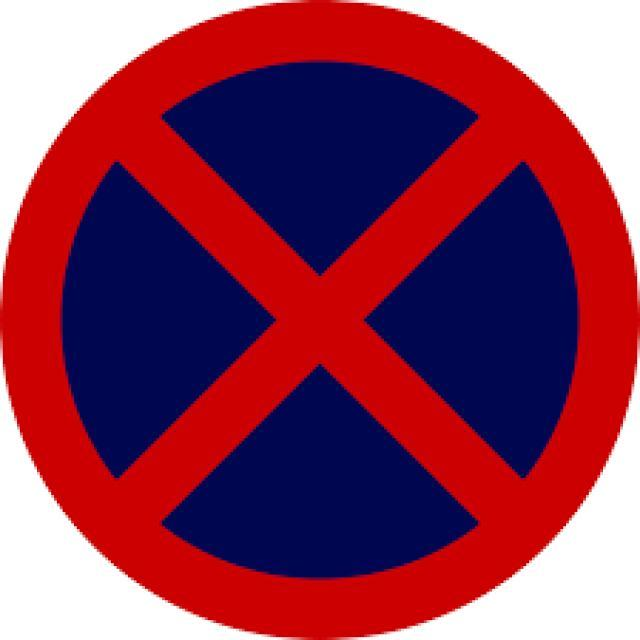no stopping or standing: (18, 22, 619, 620)
